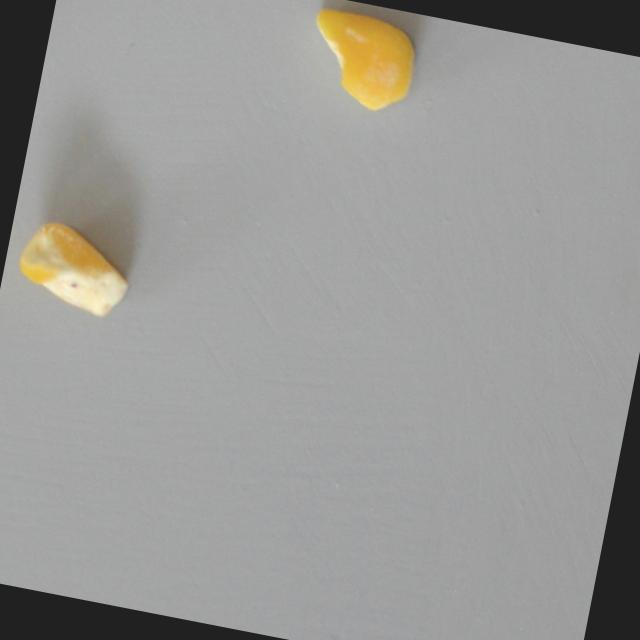pelicula: (298, 2, 425, 120)
punto_negro: (10, 216, 140, 323)
